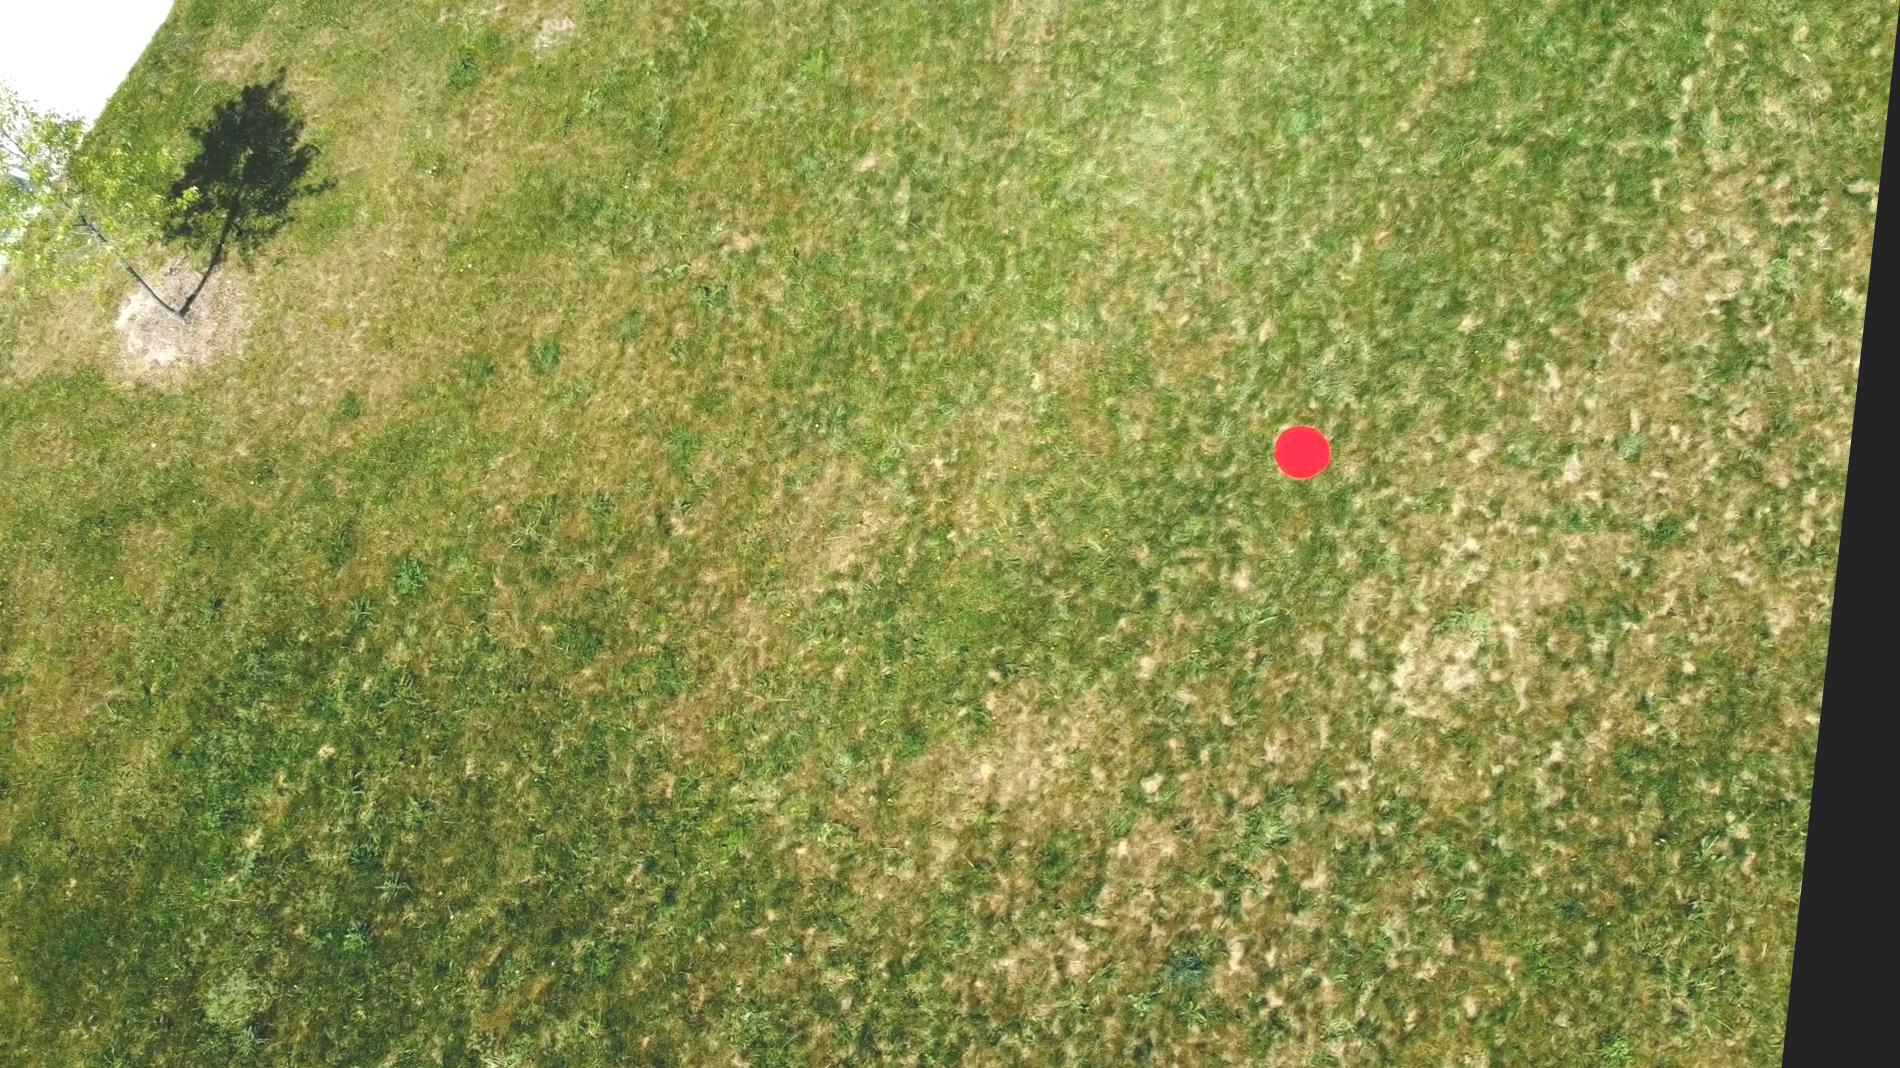Red: (1280, 423, 1347, 482)
